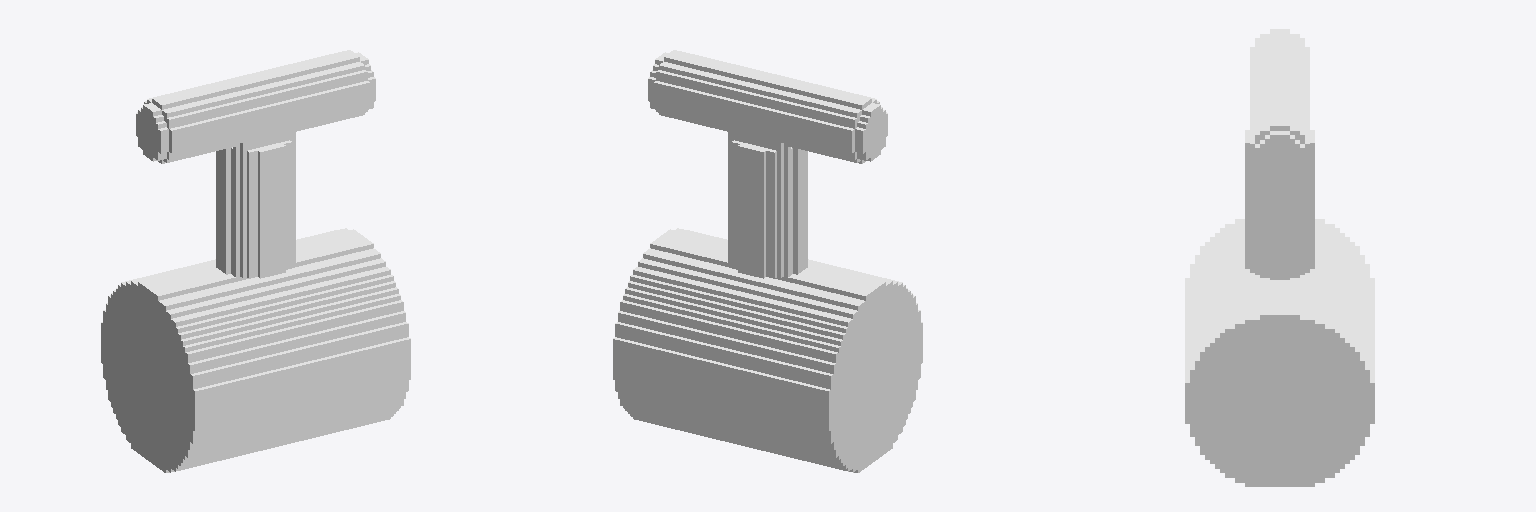
The model's file is rolloraro.obj.
The picture shows the model from 3 angles: view 1: azimuth 30°, elevation 25°; view 2: azimuth 150°, elevation 25°; view 3: azimuth 270°, elevation 25°; orthographic projection.
Parts seen in each view (by area): view 1: object 1; view 2: object 1; view 3: object 1.
Boxes of the visible parts, x1,y1,x2,y2 form: object 1: [101, 50, 410, 472]; object 1: [613, 50, 922, 472]; object 1: [1185, 29, 1374, 486].
Size of the model in its own units: 5 by 7.9 by 3.8.